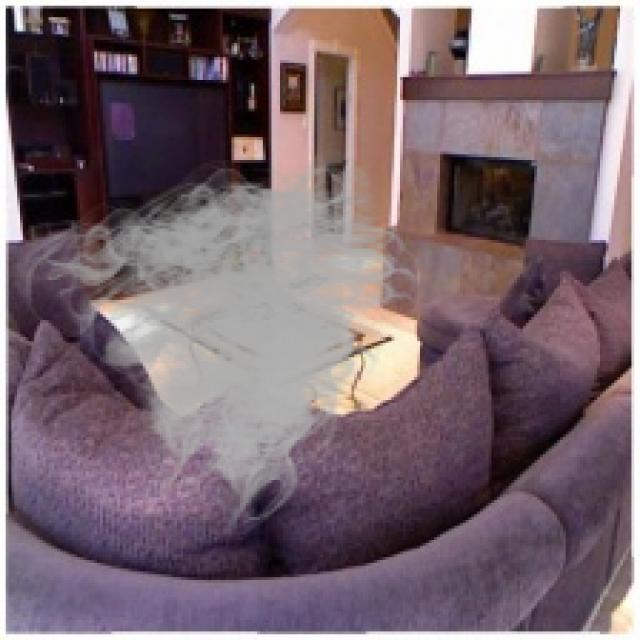smoke: (9, 140, 434, 534)
